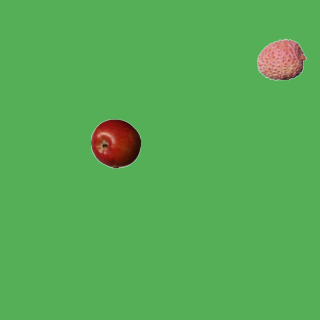Apple Braeburn: (90, 118, 140, 168)
Lychee: (256, 34, 306, 84)
